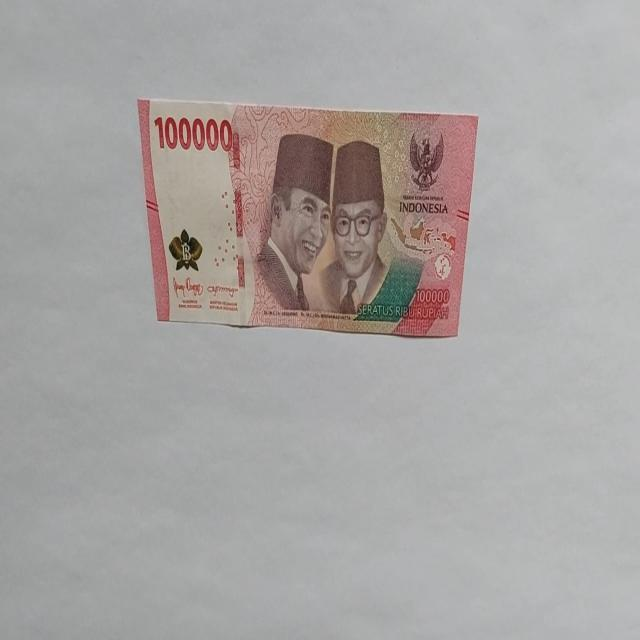seratus ribu rupiah: (137, 97, 479, 339), (254, 132, 334, 313)
